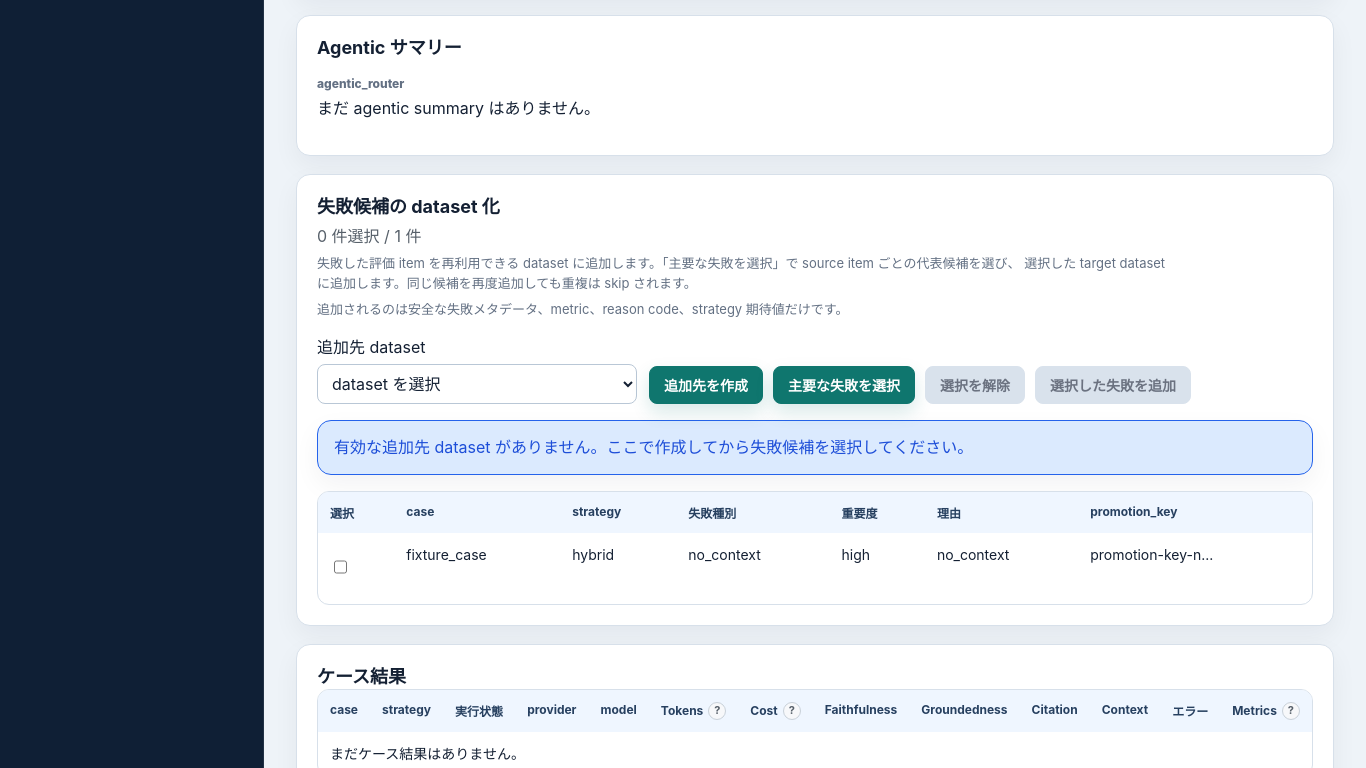
Test: evaluation detail can create a target dataset and promote selected failures
(page scrolled)
expect the text "有効な追加先 dataset がありません。ここで作成してから失敗候補を選択してください。" is shown: met, box [317,420,1313,475]
expect the button "選択した失敗を追加" is disabled: met, box [1035,366,1191,404]
What coordinates should you click on to do the following:
click the button "追加先を作成"
I would click on:
 (706, 385)
Its box is [649,366,763,404].
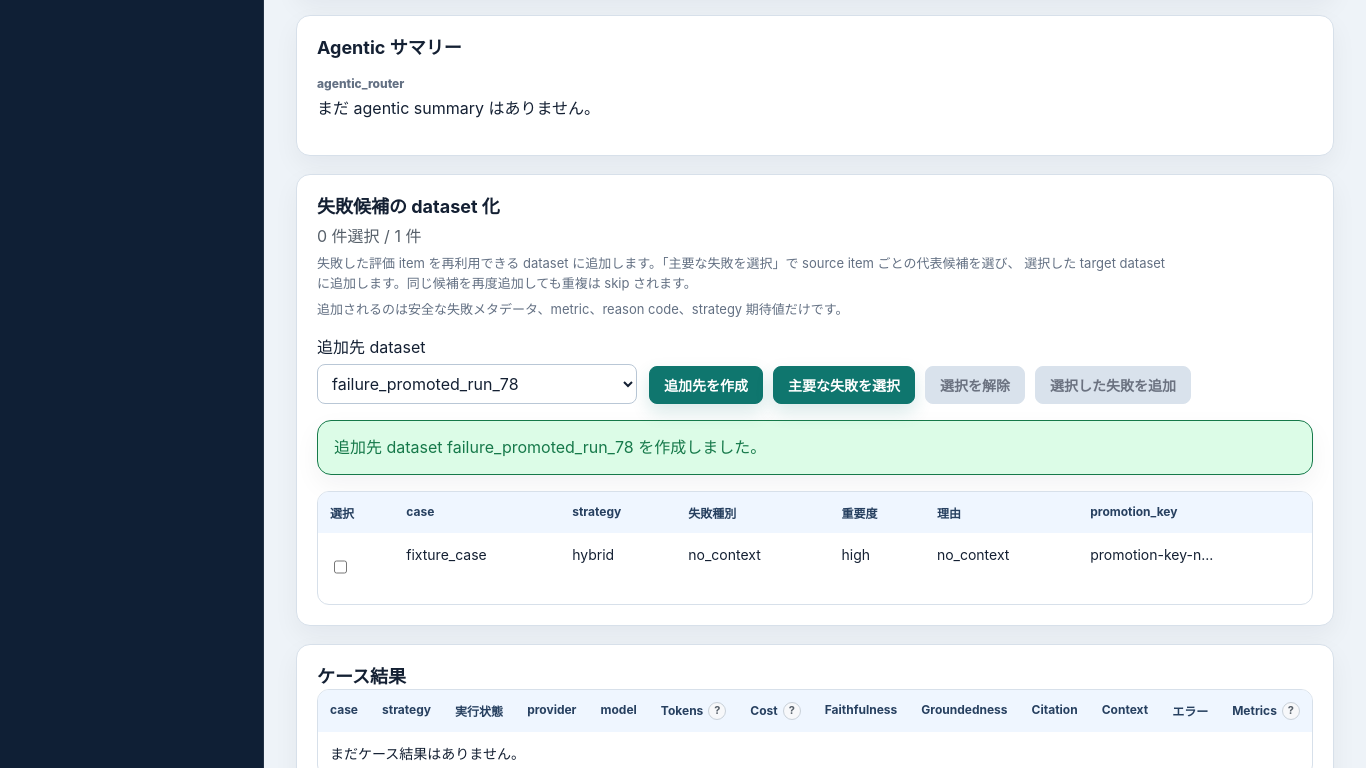
What coordinates should you click on to do the following:
click the checkbox named "失敗候補 no_context"
I would click on:
 (340, 567)
Its box is [334,548,347,586].
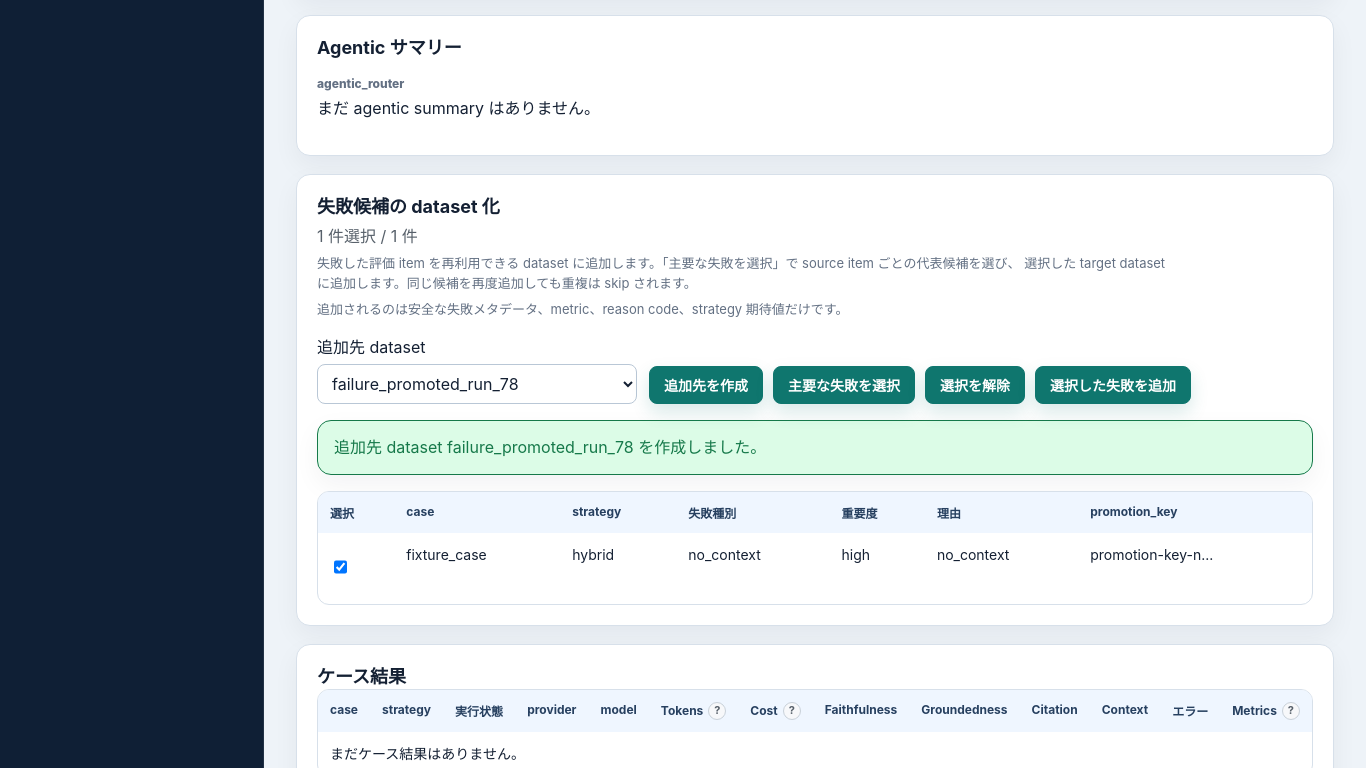
What coordinates should you click on to do the following:
click the button "選択した失敗を追加"
I would click on:
 (1113, 385)
Its box is [1035,366,1191,404].
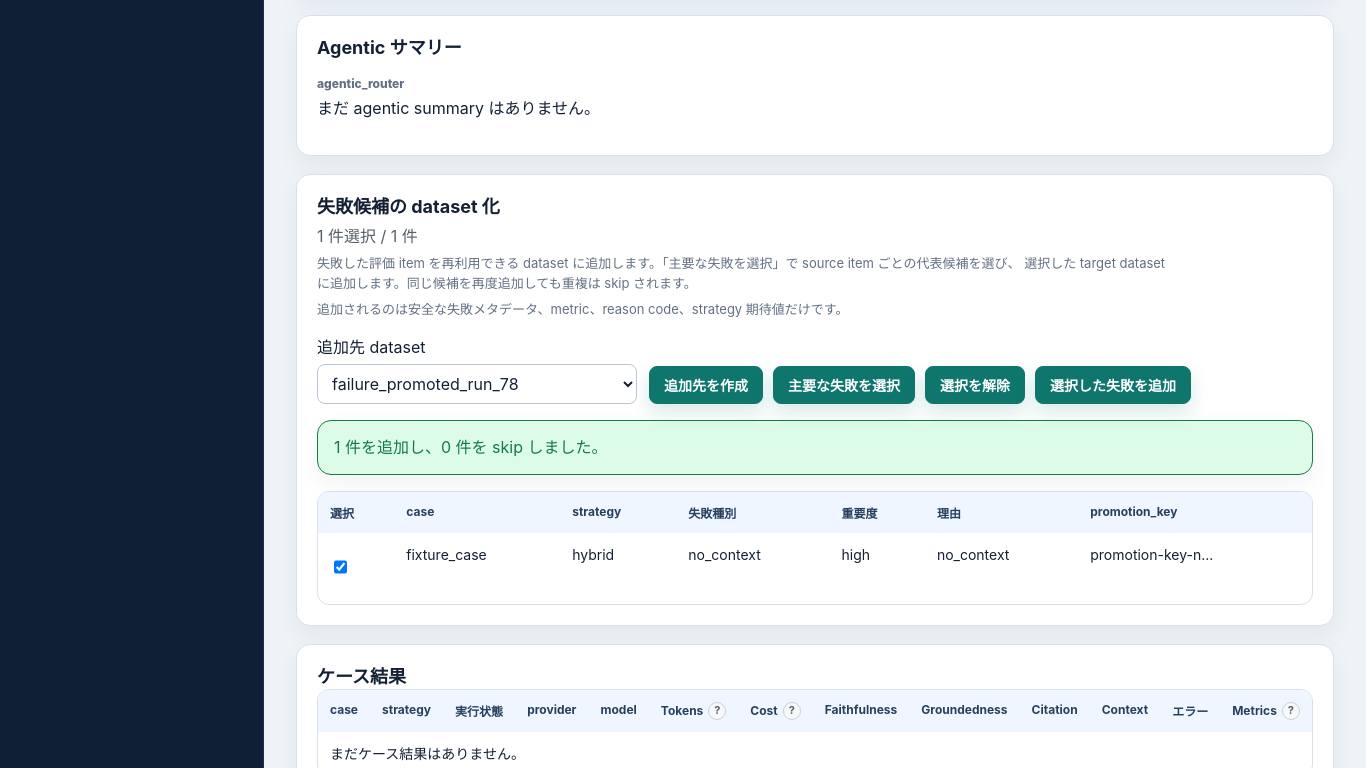
expect the text "1 件を追加し、0 件を skip しました。" is shown: met, box [317,420,1313,475]
